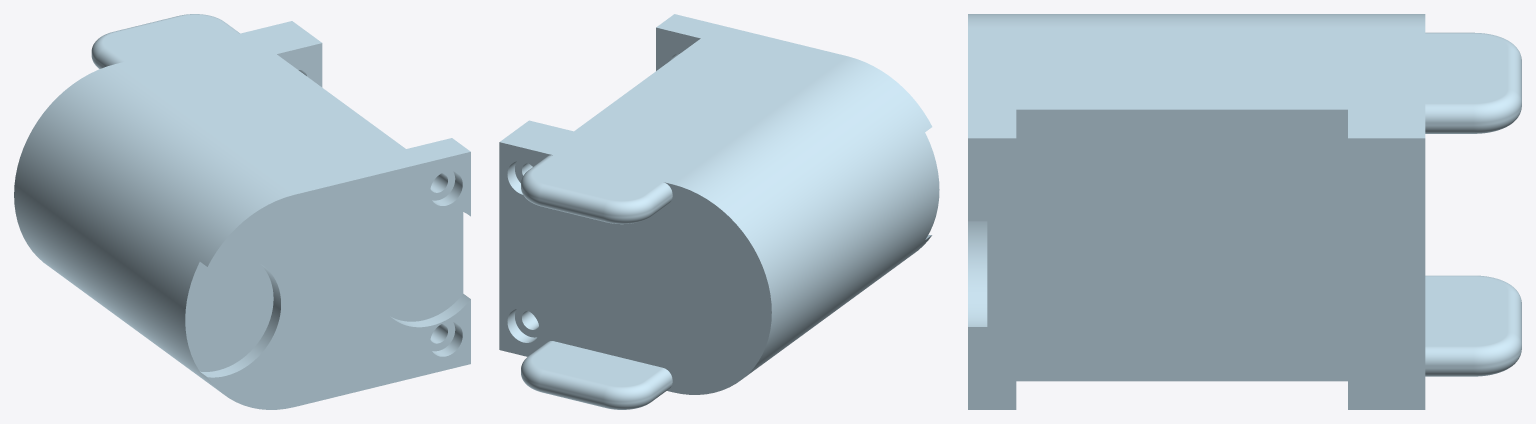
3 views of the same model, side by side, from view 1: azimuth 30°, elevation 25°; view 2: azimuth 150°, elevation 25°; view 3: azimuth 270°, elevation 25° (orthographic). The views are drawn at different scales.
Visible parts, largest first — view 1: SnakeTail; view 2: SnakeTail; view 3: SnakeTail.
Part boxes in pixels (box(x1,y1,x2,y2)): SnakeTail: box(14, 14, 470, 409); SnakeTail: box(499, 14, 939, 409); SnakeTail: box(968, 14, 1521, 409).
Size of the model in its own units: 0.0425 by 0.031 by 0.0573.
